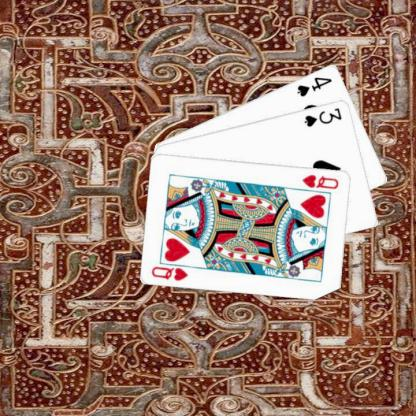3S: (302, 105, 343, 128)
4S: (295, 74, 333, 98)
QH: (149, 259, 195, 282), (300, 172, 340, 190)
